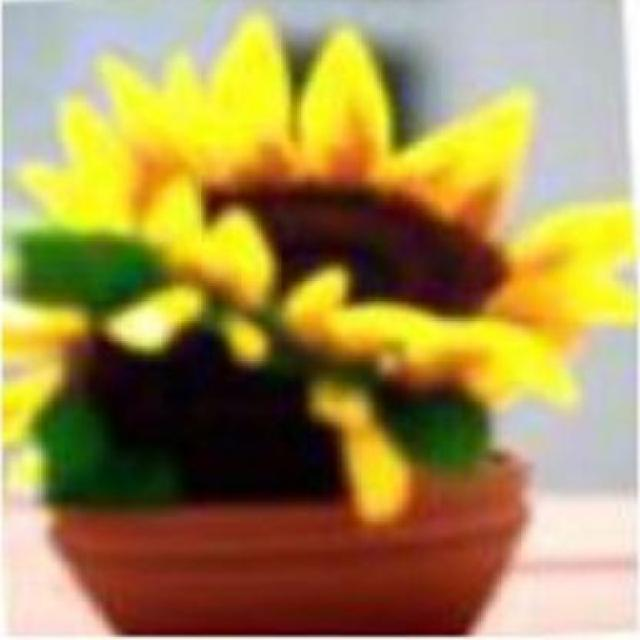sunflower: (11, 8, 638, 403)
